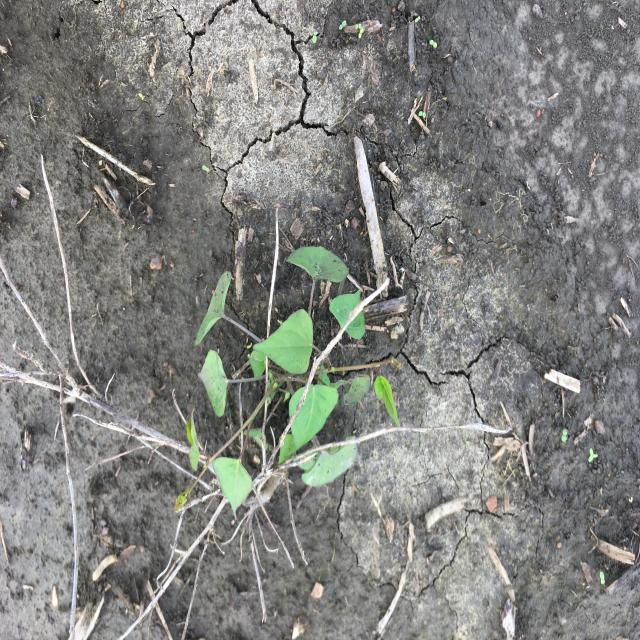MorningGlory: (172, 243, 405, 523)
